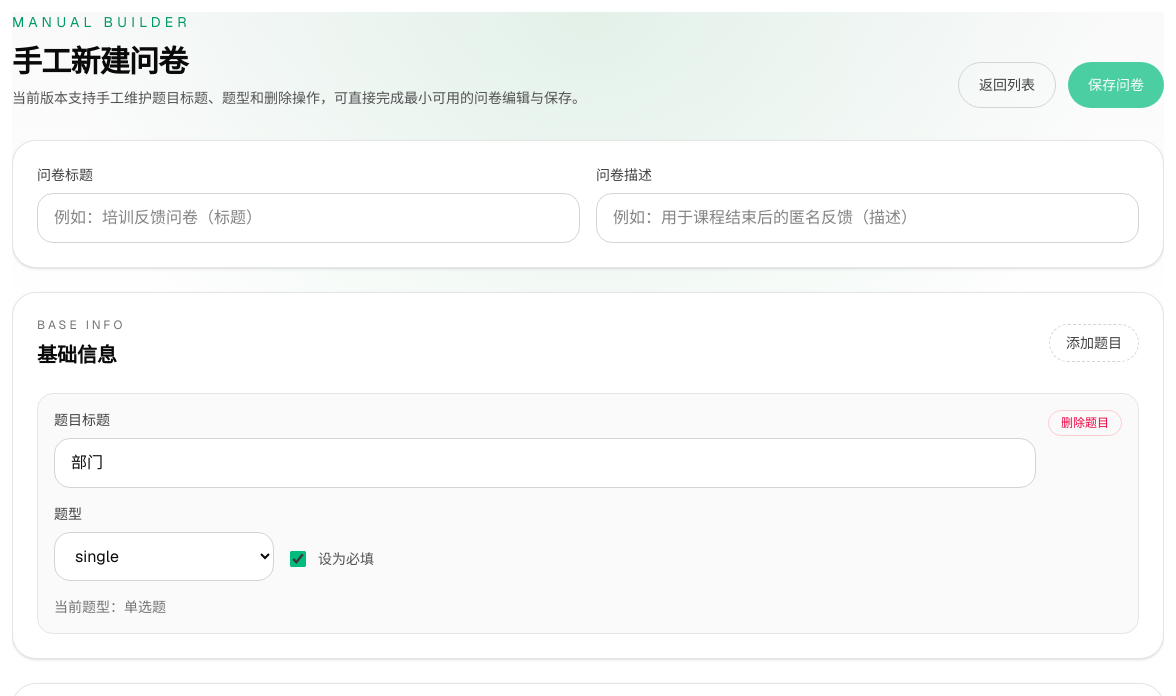
QuestionnaireBuilder › adds a new question into the current section
This screenshot has width=1176, height=696.
Click the button "添加题目" in the row of "Base Info". click: (1094, 343)
box: [1049,324,1139,362]
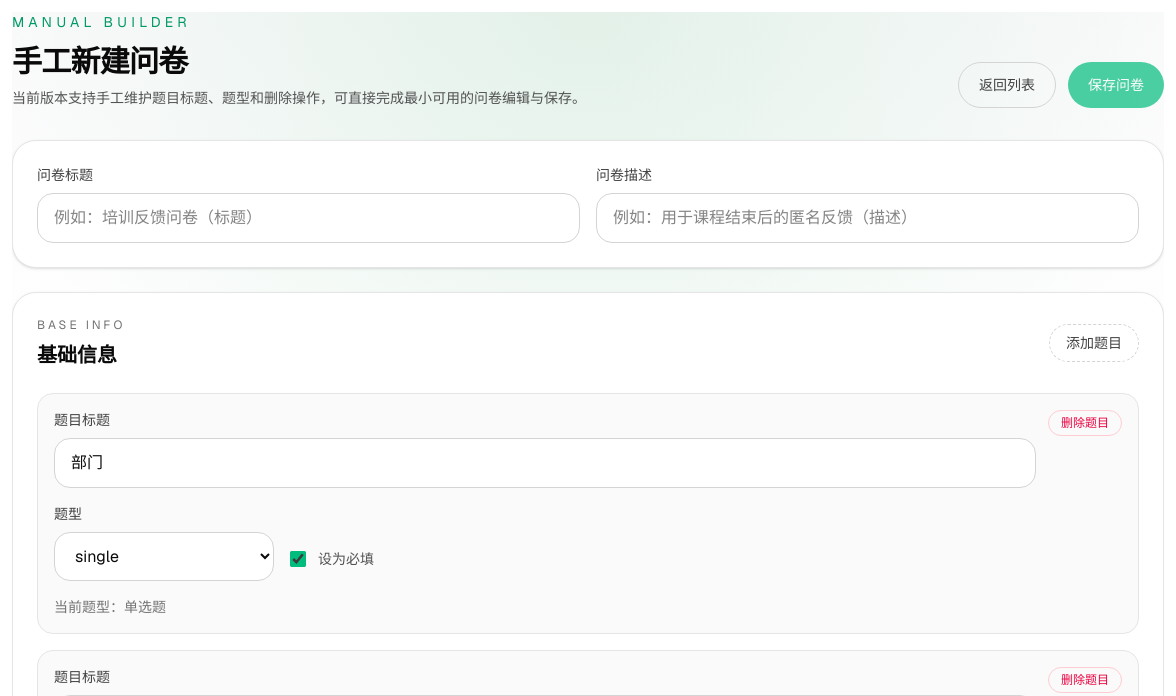
Expected: the number of fields labelled "题目标题" is 3
